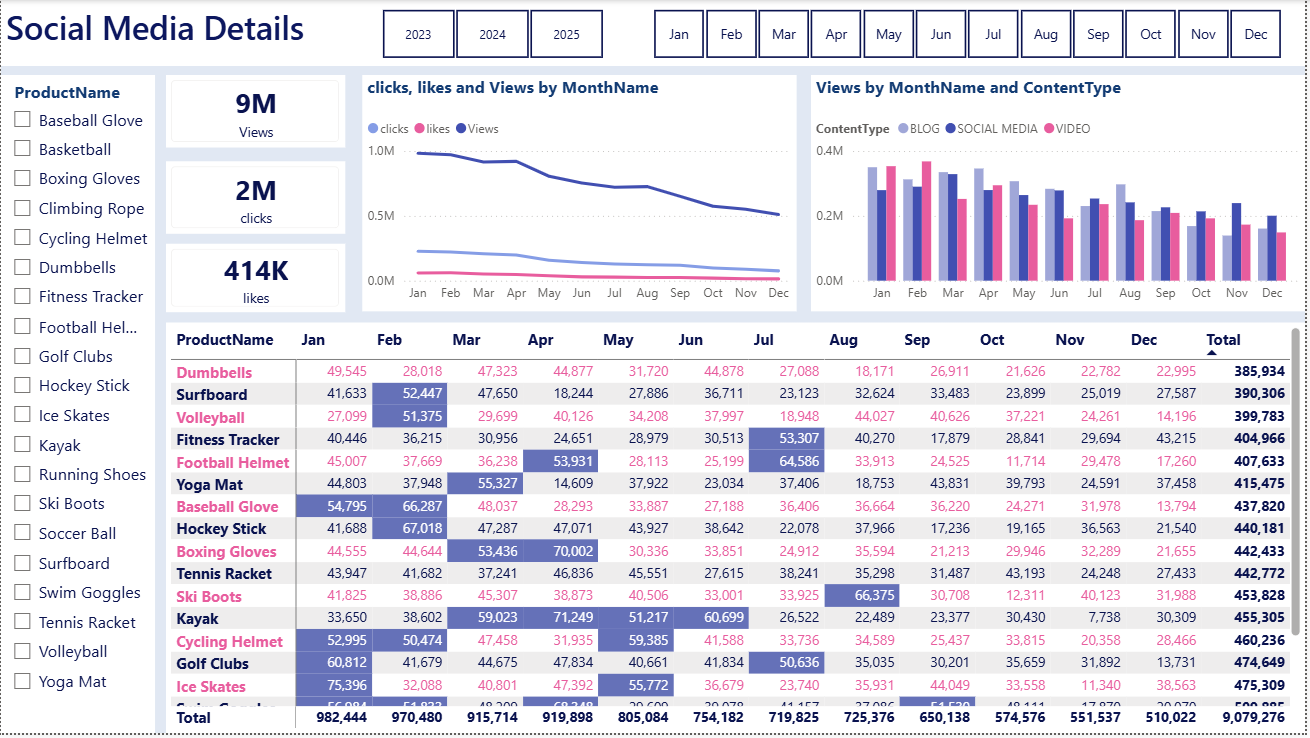

This screenshot's page, from the dashboard's own definition file:
{"tool":"powerbi","page":{"name":"SocialMediaDetails","canvas":[1280,720],"ordinal":2},"visuals":[{"type":"slicer","fields":{"Values":["dim_products.ProductName"]},"box":[0,74.1,150.9,646.3],"z":0},{"type":"textbox","box":[0,0,1280.3,64.5],"z":1000},{"type":"cardVisual","fields":{"Data":["_Calculations.clicks"]},"box":[161.9,157.8,175.6,71.4],"z":6000},{"type":"cardVisual","fields":{"Data":["_Calculations.likes"]},"box":[161.9,238.8,175.6,67.2],"z":7000},{"type":"cardVisual","fields":{"Data":["_Calculations.Views"]},"box":[161.9,74.1,175.6,71.4],"z":9000},{"type":"slicer","fields":{"Values":["Calendar.Year"]},"box":[348.5,2.7,266.2,61.7],"z":10000},{"type":"slicer","fields":{"Values":["Calendar.MonthNameShort"]},"box":[614.8,2.7,665.5,61.7],"z":11000},{"type":"lineChart","title":"clicks, likes and Views by MonthName","fields":{"Category":["Calendar.MonthNameShort"],"Y":["_Calculations.clicks","_Calculations.likes","_Calculations.Views"]},"box":[354,74.1,426.8,231.9],"z":14000},{"type":"clusteredColumnChart","title":"Views by MonthName and ContentType","fields":{"Category":["Calendar.MonthNameShort"],"Y":["_Calculations.Views"],"Series":["fact_engagement_data.ContentType"]},"box":[794.5,74.1,485.8,231.9],"z":17001},{"type":"pivotTable","fields":{"Values":["_Calculations.Views"],"Columns":["Calendar.MonthNameShort"],"Rows":["dim_products.ProductName"]},"box":[161.9,317,1118.4,403.4],"z":17002}]}

Visuals, with their boxes in screenshot pixels (x1, y1, x2, y2), scaled from the page's 1280x720 canvas onto the 1310x738 screenshot:
slicer - dim_products.ProductName: 0:76:154:737
textbox: 0:0:1309:66
cardVisual - _Calculations.clicks: 166:162:345:235
cardVisual - _Calculations.likes: 166:245:345:314
cardVisual - _Calculations.Views: 166:76:345:149
slicer - Calendar.Year: 357:3:629:66
slicer - Calendar.MonthNameShort: 629:3:1309:66
"clicks, likes and Views by MonthName" lineChart: 362:76:799:314
"Views by MonthName and ContentType" clusteredColumnChart: 813:76:1309:314
pivotTable - _Calculations.Views x Calendar.MonthNameShort: 166:325:1309:737
